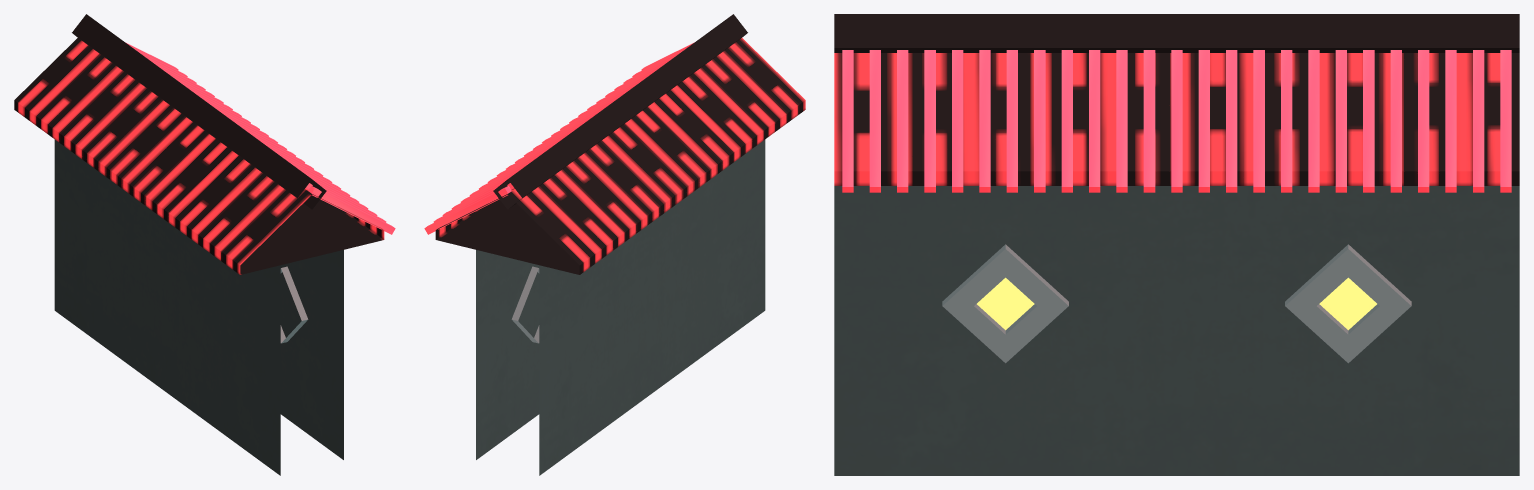
Rendered from S1_Hei_Tate.fbx.
The picture shows the model from 3 angles, left to right: view 1: azimuth 30°, elevation 25°; view 2: azimuth 150°, elevation 25°; view 3: azimuth 270°, elevation 25°; orthographic projection. The views are drawn at different scales.
Visible parts, largest first — view 1: Base, Kawara; view 2: Base, Kawara; view 3: Base, Kawara.
Boxes of the visible parts, x1,y1,x2,y2 form: Base: [14, 14, 384, 475]; Kawara: [125, 42, 395, 234]; Base: [435, 14, 805, 475]; Kawara: [424, 42, 694, 234]; Base: [834, 14, 1519, 475]; Kawara: [842, 50, 1511, 192].
Bounding box in the file's own units: 202 × 353 × 500.
